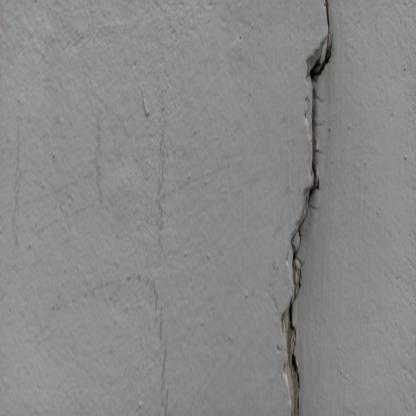crack: (281, 0, 334, 416)
